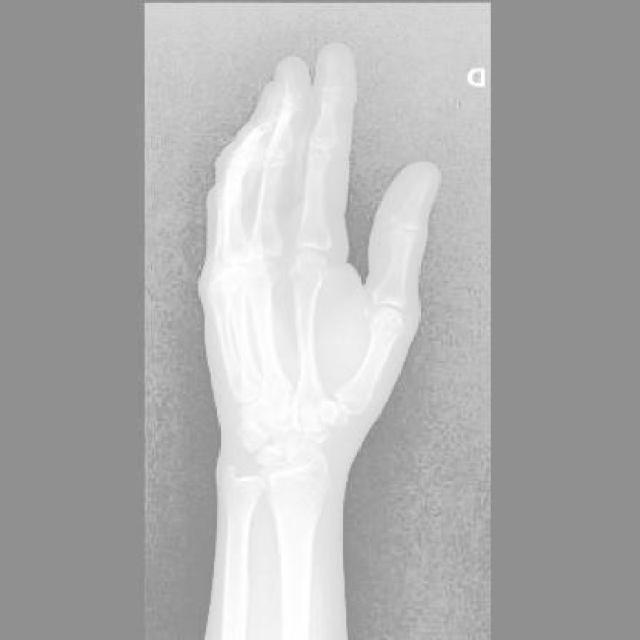Fracture: (297, 430, 326, 453)
